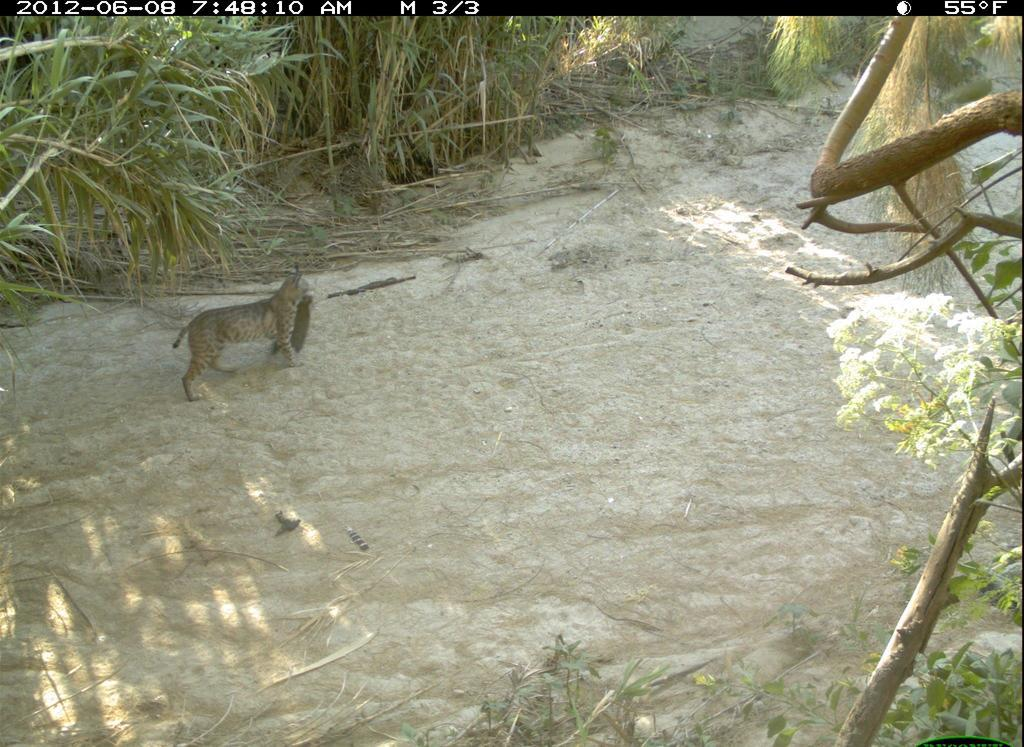bobcat: (167, 260, 319, 401)
